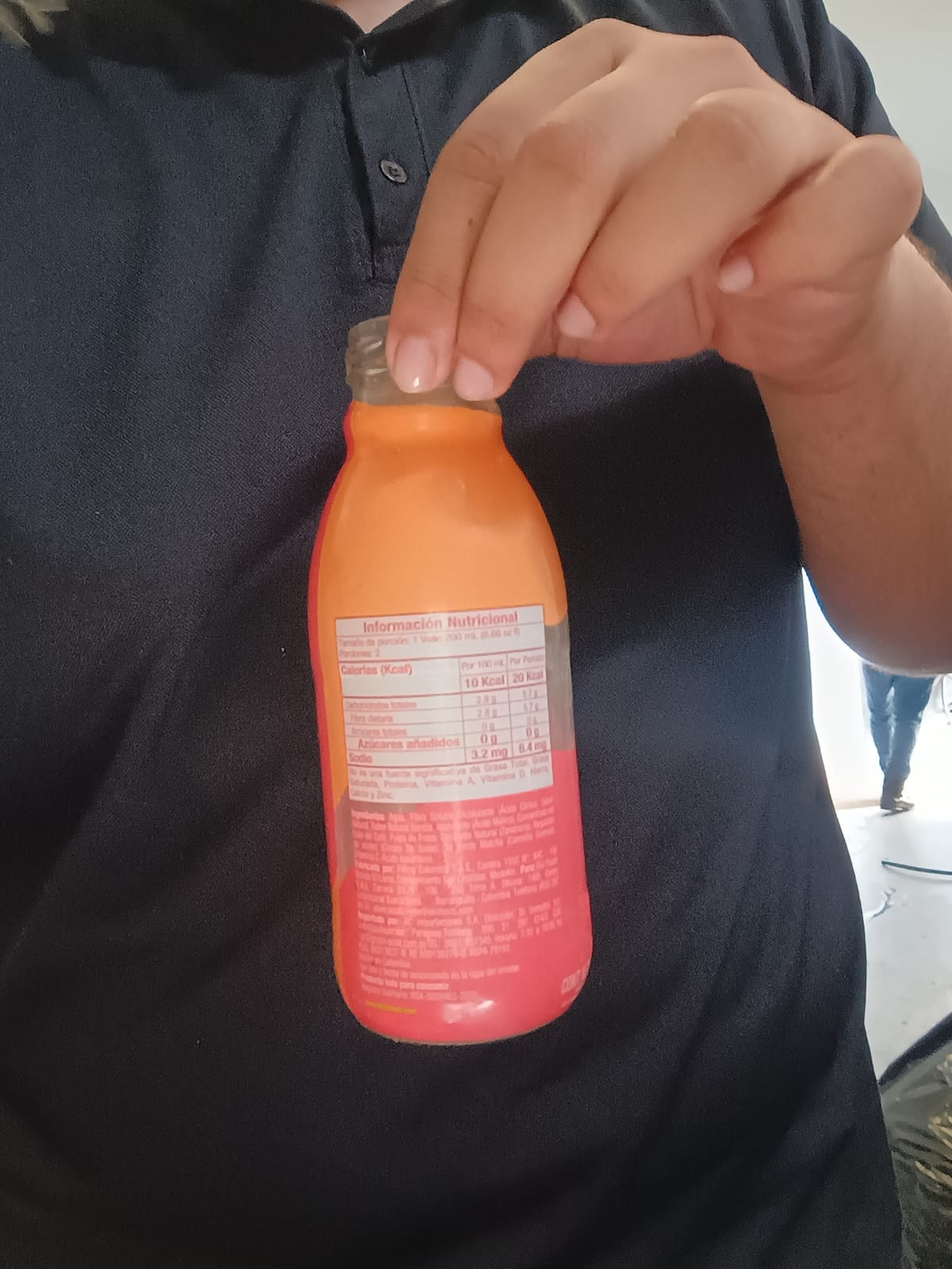Vidrio: (306, 317, 597, 1044)
